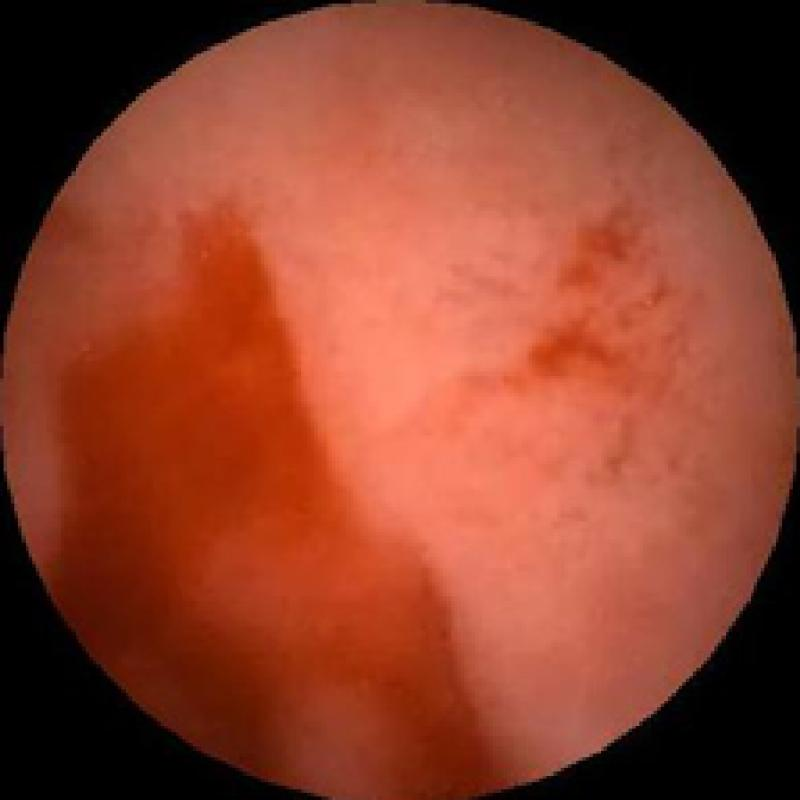bleeding: (157, 218, 472, 743), (536, 224, 648, 380)
